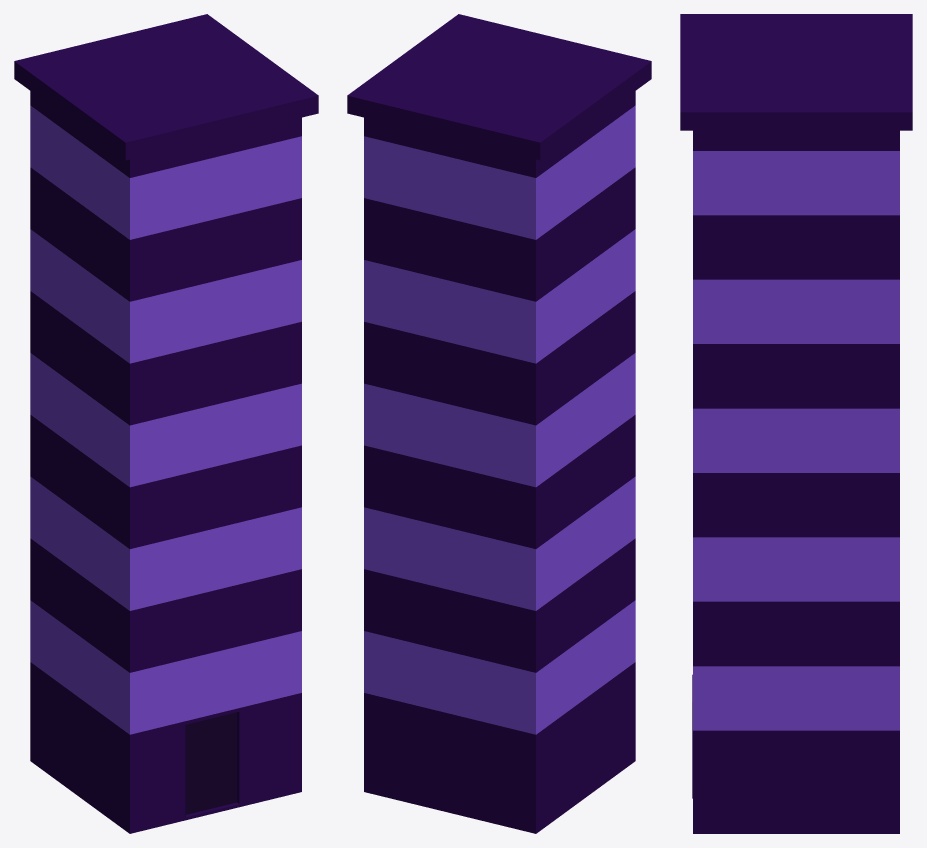
The model's file is Oscuro Morado Edificio 2.glb.
3 renders of one model, left to right at view 1: azimuth 30°, elevation 25°; view 2: azimuth 150°, elevation 25°; view 3: azimuth 270°, elevation 25°, orthographic. The views are drawn at different scales.
Parts seen in each view (by area): view 1: Cube.002; view 2: Cube.002; view 3: Cube.002.
Part boxes in pixels (left/top/right/bottom): Cube.002: left=14, top=14, right=318, bottom=833; Cube.002: left=347, top=14, right=651, bottom=833; Cube.002: left=680, top=14, right=912, bottom=833.
Bounding box in the file's own units: 16.34 × 56.43 × 16.34.
